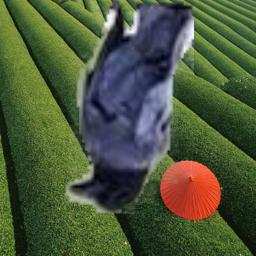Crow: (64, 1, 194, 214)
